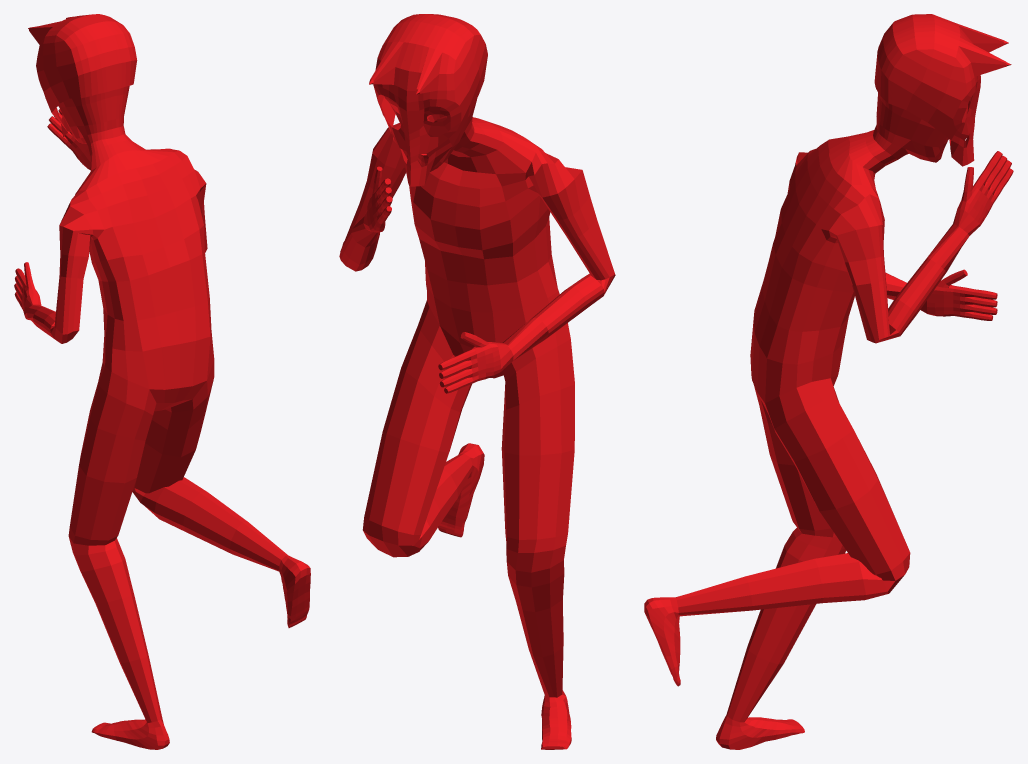
Rendered from correrE_000090.obj.
3 views of the same model, side by side, from view 1: azimuth 30°, elevation 25°; view 2: azimuth 150°, elevation 25°; view 3: azimuth 270°, elevation 25° (orthographic). The views are drawn at different scales.
Parts seen in each view (by area): view 1: Plane.002_Plane.001; view 2: Plane.002_Plane.001; view 3: Plane.002_Plane.001.
Part boxes in pixels (bbox=[...]): Plane.002_Plane.001: bbox=[14, 14, 310, 749]; Plane.002_Plane.001: bbox=[339, 14, 615, 749]; Plane.002_Plane.001: bbox=[644, 14, 1013, 749].
Bounding box in the file's own units: 2.1 × 6.56 × 2.98.
